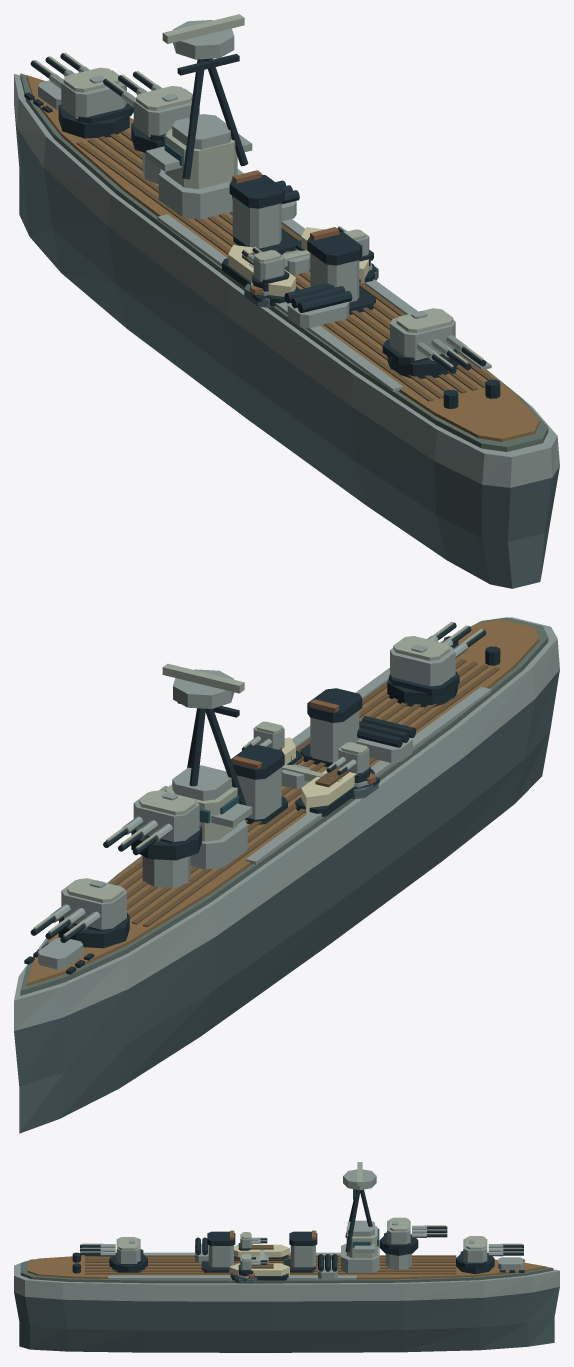
File: historic-kirov.glb
3 renders of one model, top to bottom at view 1: azimuth 30°, elevation 25°; view 2: azimuth 150°, elevation 25°; view 3: azimuth 270°, elevation 25°, orthographic. The views are drawn at different scales.
Visible parts, largest first — view 1: historic-kirov-historic-kirov-geometry, historic-kirov-part_bridge.047-geometry, historic-kirov-turret_main_0.037-geometry, historic-kirov-turret_main_2.032-geometry, historic-kirov-historic_funnel_0.048-geometry, historic-kirov-turret_main_1.036-geometry, historic-kirov-historic_funnel_1.024-geometry, historic-kirov-torpedo_bank_0.010-geometry, historic-kirov-turret_aa_aa-port.049-geometry; view 2: historic-kirov-historic-kirov-geometry, historic-kirov-part_bridge.047-geometry, historic-kirov-turret_main_2.032-geometry, historic-kirov-turret_main_1.036-geometry, historic-kirov-turret_main_0.037-geometry, historic-kirov-historic_funnel_1.024-geometry, historic-kirov-historic_funnel_0.048-geometry, historic-kirov-torpedo_bank_0.010-geometry, historic-kirov-turret_aa_aa-port.049-geometry, historic-kirov-turret_aa_aa-starboard.047-geometry, historic-kirov-historic_catapult_0.012-geometry; view 3: historic-kirov-historic-kirov-geometry, historic-kirov-part_bridge.047-geometry, historic-kirov-turret_main_1.036-geometry, historic-kirov-turret_main_0.037-geometry, historic-kirov-turret_main_2.032-geometry, historic-kirov-historic_funnel_1.024-geometry, historic-kirov-historic_funnel_0.048-geometry, historic-kirov-torpedo_bank_1.009-geometry, historic-kirov-turret_aa_aa-starboard.047-geometry, historic-kirov-turret_aa_aa-port.049-geometry, historic-kirov-torpedo_bank_0.010-geometry.
Part boxes in pixels (<box>): historic-kirov-historic-kirov-geometry: <box>14,73,559,588</box>; historic-kirov-part_bridge.047-geometry: <box>146,14,252,219</box>; historic-kirov-turret_main_0.037-geometry: <box>30,52,133,138</box>; historic-kirov-turret_main_2.032-geometry: <box>382,308,486,378</box>; historic-kirov-historic_funnel_0.048-geometry: <box>229,170,297,254</box>; historic-kirov-turret_main_1.036-geometry: <box>103,71,199,152</box>; historic-kirov-historic_funnel_1.024-geometry: <box>307,227,375,314</box>; historic-kirov-torpedo_bank_0.010-geometry: <box>284,283,352,328</box>; historic-kirov-turret_aa_aa-port.049-geometry: <box>241,246,289,291</box>; historic-kirov-historic-kirov-geometry: <box>14,617,559,1133</box>; historic-kirov-part_bridge.047-geometry: <box>159,663,252,869</box>; historic-kirov-turret_main_2.032-geometry: <box>387,622,486,707</box>; historic-kirov-turret_main_1.036-geometry: <box>103,790,201,860</box>; historic-kirov-turret_main_0.037-geometry: <box>30,878,129,948</box>; historic-kirov-historic_funnel_1.024-geometry: <box>300,688,362,767</box>; historic-kirov-historic_funnel_0.048-geometry: <box>231,745,287,824</box>; historic-kirov-torpedo_bank_0.010-geometry: <box>356,716,416,762</box>; historic-kirov-turret_aa_aa-port.049-geometry: <box>326,742,370,783</box>; historic-kirov-turret_aa_aa-starboard.047-geometry: <box>241,721,284,750</box>; historic-kirov-historic_catapult_0.012-geometry: <box>281,764,342,789</box>; historic-kirov-historic-kirov-geometry: <box>14,1244,559,1352</box>; historic-kirov-part_bridge.047-geometry: <box>341,1162,379,1272</box>; historic-kirov-turret_main_1.036-geometry: <box>379,1217,447,1255</box>; historic-kirov-turret_main_0.037-geometry: <box>456,1236,523,1274</box>; historic-kirov-turret_main_2.032-geometry: <box>80,1237,147,1272</box>; historic-kirov-historic_funnel_1.024-geometry: <box>201,1230,235,1272</box>; historic-kirov-historic_funnel_0.048-geometry: <box>283,1230,317,1272</box>; historic-kirov-torpedo_bank_1.009-geometry: <box>318,1254,337,1279</box>; historic-kirov-turret_aa_aa-starboard.047-geometry: <box>238,1254,267,1276</box>; historic-kirov-turret_aa_aa-port.049-geometry: <box>238,1232,267,1250</box>; historic-kirov-torpedo_bank_0.010-geometry: <box>195,1237,208,1262</box>.
Size of the model in its own units: 0.591 by 1.49 by 4.32.
